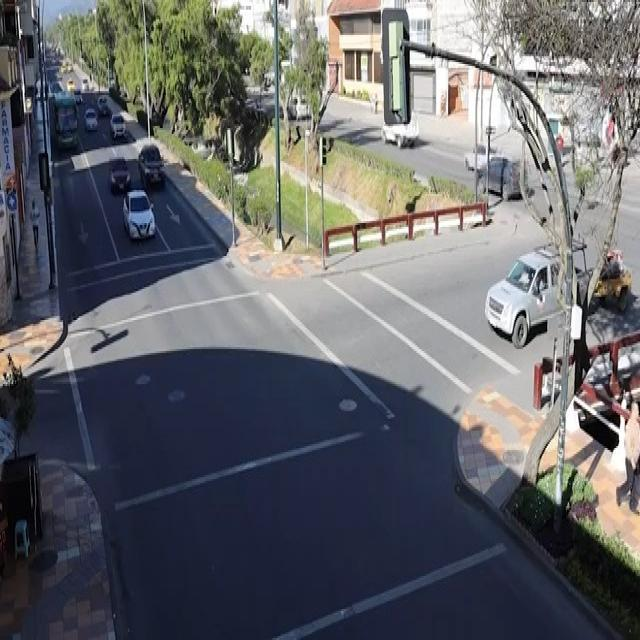CMT: (487, 245, 598, 344)
